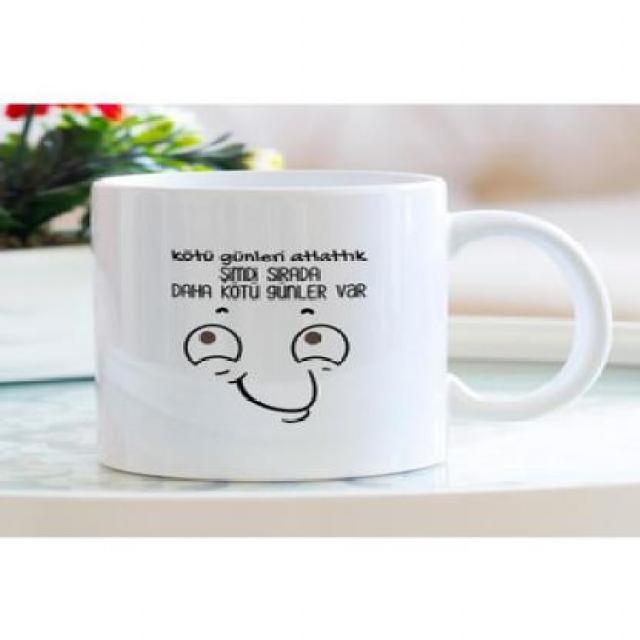taza: (89, 169, 614, 482)
